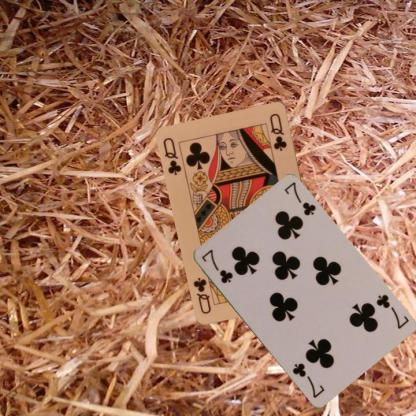7c: (372, 291, 410, 331), (198, 247, 234, 285)
Qc: (161, 135, 183, 177)
